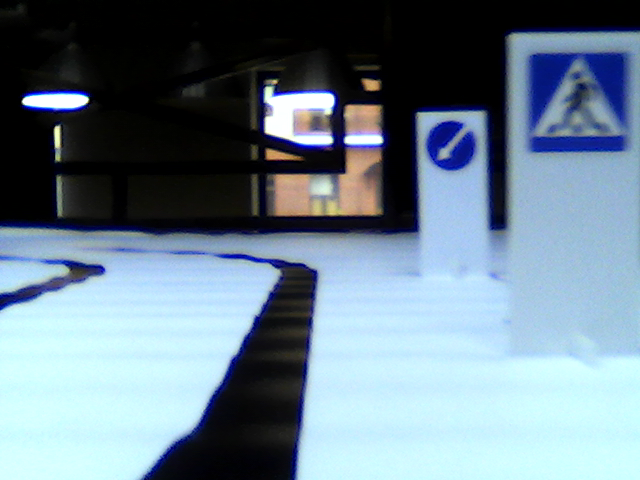pesh: (530, 50, 630, 157)
prep: (424, 118, 476, 171)
